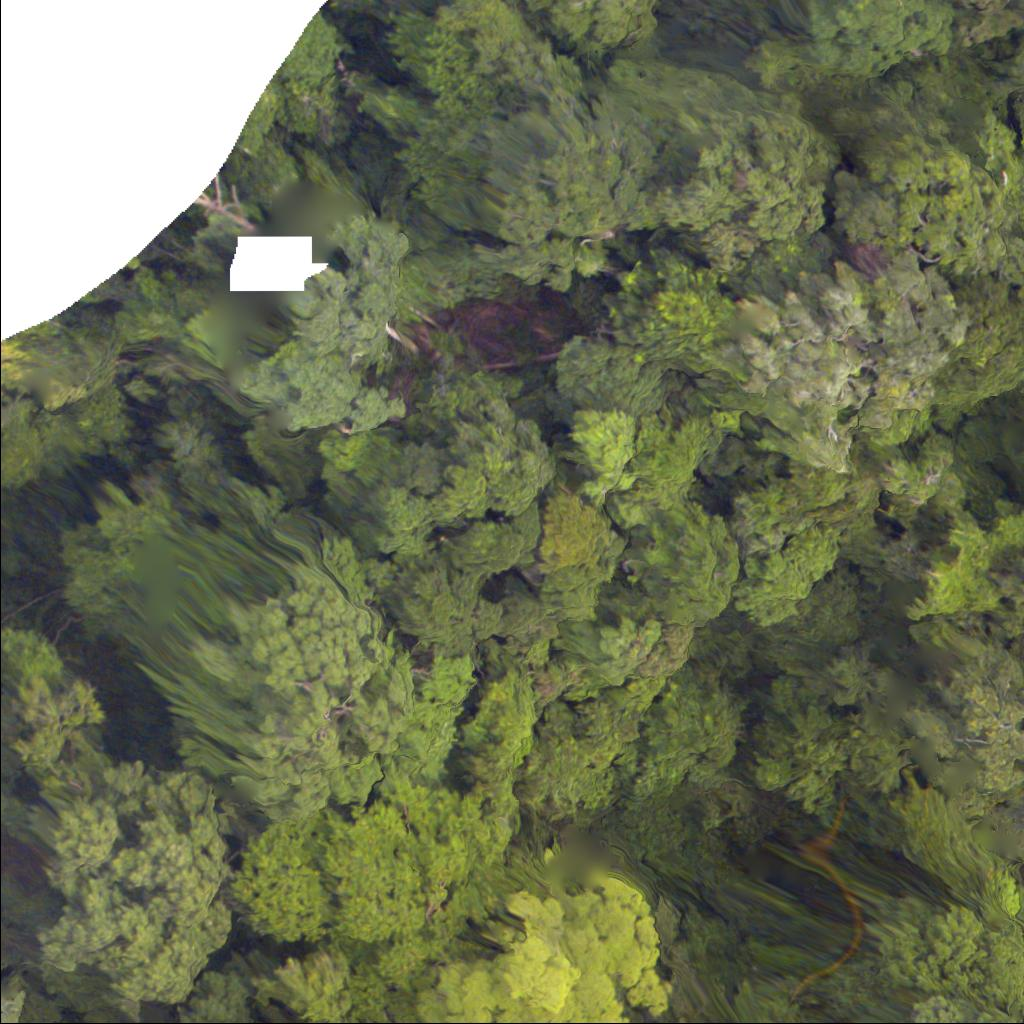crown: (428, 874, 713, 1023), (874, 582, 1023, 849), (922, 994, 1023, 1023)
